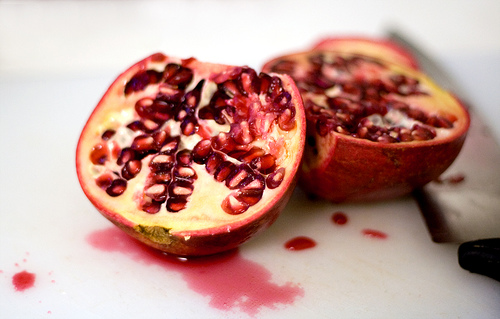pomogranate: (74, 53, 307, 258), (262, 36, 470, 205)
